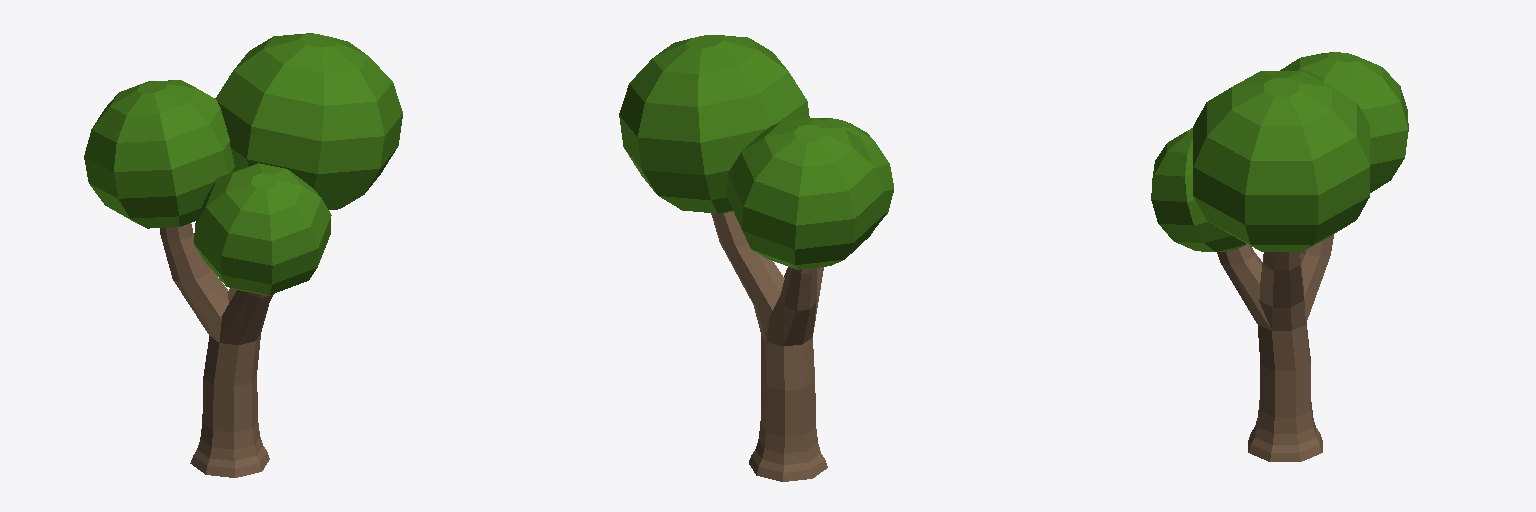
Rendered from BigTree.obj.
The picture shows the model from 3 angles: view 1: azimuth 30°, elevation 25°; view 2: azimuth 150°, elevation 25°; view 3: azimuth 270°, elevation 25°; orthographic projection.
Visible parts, largest first — view 1: mergedBlocks; view 2: mergedBlocks; view 3: mergedBlocks.
Part boxes in pixels (bbox=[...]): mergedBlocks: bbox=[84, 33, 402, 477]; mergedBlocks: bbox=[619, 35, 893, 481]; mergedBlocks: bbox=[1151, 52, 1408, 461].
Size of the model in its own units: 3.36 by 5 by 2.89.